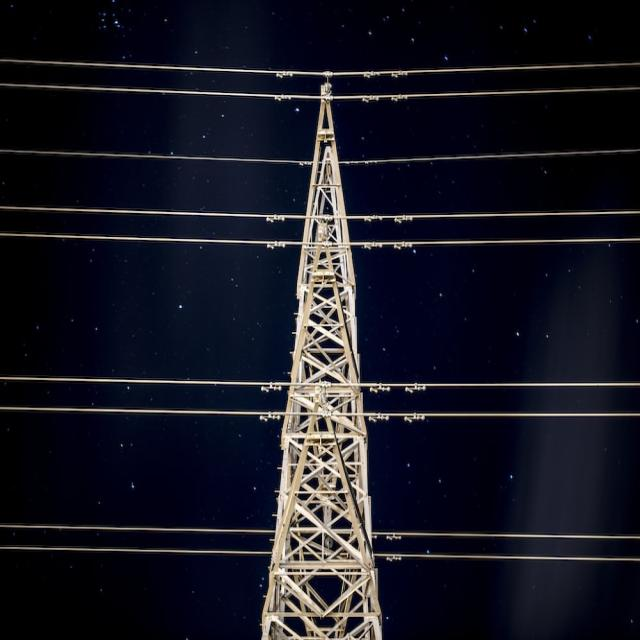transmission tower: (190, 98, 479, 640)
